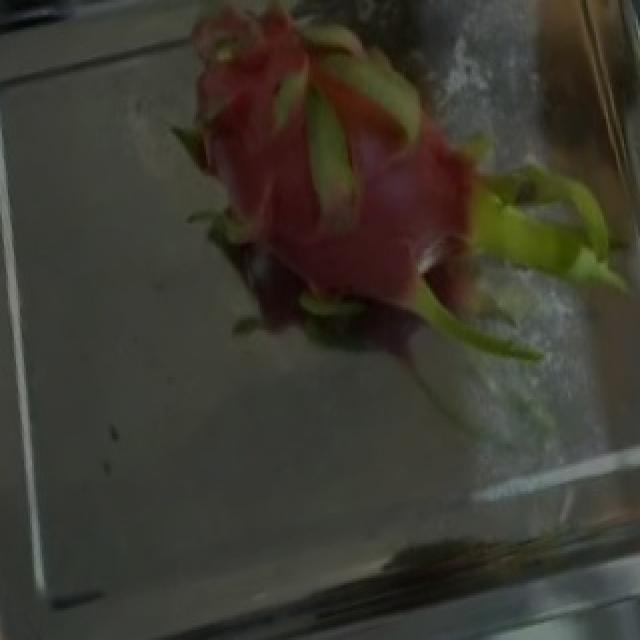fruit: (202, 5, 632, 456)
